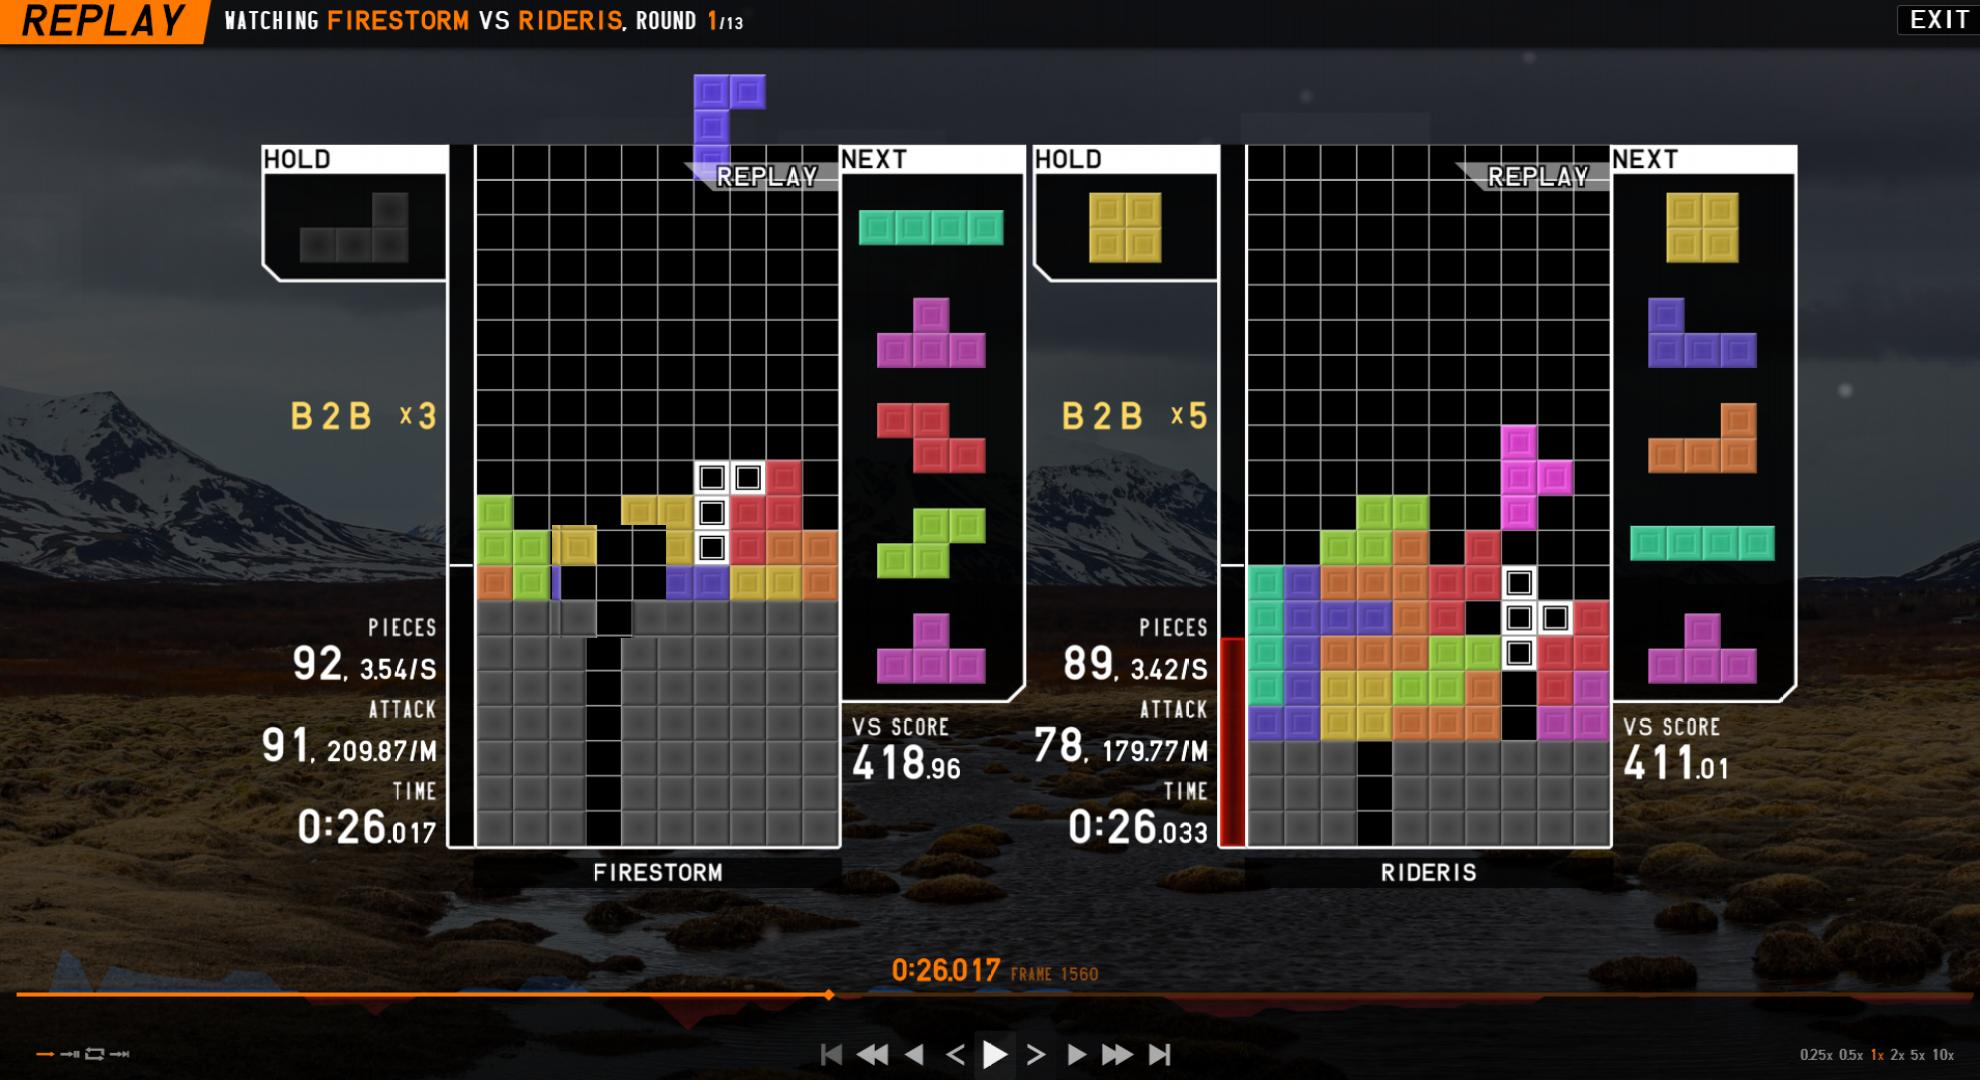tspin: (552, 525, 666, 638), (1460, 565, 1569, 670)
